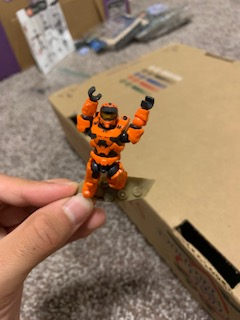spartan: (72, 86, 156, 202)
up: (73, 87, 155, 154)
